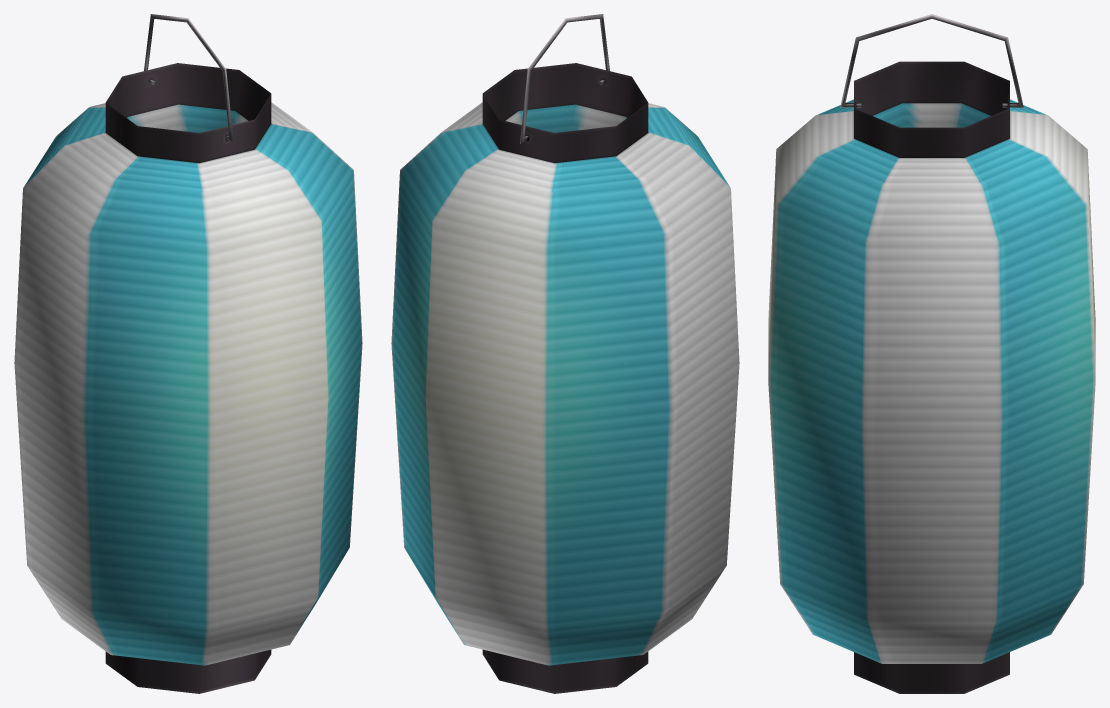
The model's file is jsf_Light_Lantern_06.fbx.
3 views of the same model, side by side, from view 1: azimuth 30°, elevation 25°; view 2: azimuth 150°, elevation 25°; view 3: azimuth 270°, elevation 25° (orthographic).
Parts seen in each view (by area): view 1: Lantern, Handle; view 2: Lantern, Handle; view 3: Lantern, Handle.
Part boxes in pixels (x1,y1,x2,y2): Lantern: (14, 63, 362, 693); Handle: (144, 14, 233, 143); Lantern: (391, 63, 739, 693); Handle: (520, 14, 609, 143); Lantern: (768, 61, 1095, 693); Handle: (840, 14, 1023, 107).
Bounding box in the file's own units: 24.44 × 53.27 × 24.44.
